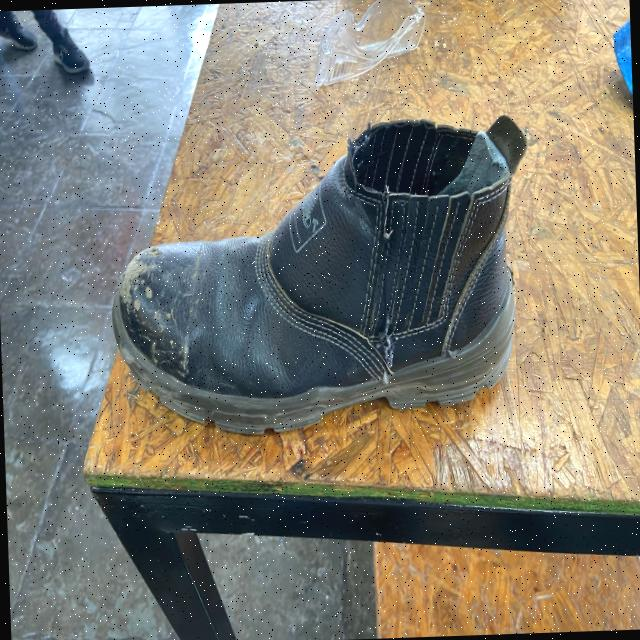BOTA: (106, 101, 536, 437)
SEM BOTA: (47, 25, 90, 75), (0, 11, 38, 50)
